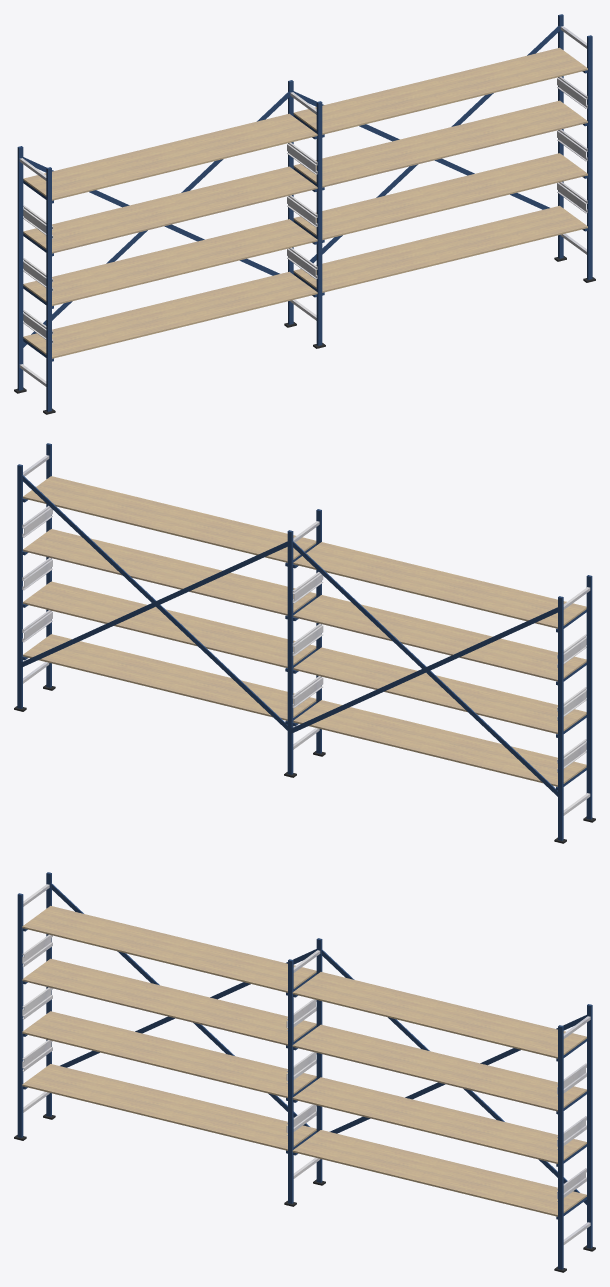
The model's file is BigShelves02.FBX.
3 renders of one model, top to bottom at view 1: azimuth 30°, elevation 25°; view 2: azimuth 150°, elevation 25°; view 3: azimuth 330°, elevation 25°, orthographic.
Visible parts, largest first — view 1: BigShelves02; view 2: BigShelves02; view 3: BigShelves02.
Boxes of the visible parts, bbox=[...] form: BigShelves02: bbox=[14, 14, 595, 414]; BigShelves02: bbox=[14, 443, 595, 843]; BigShelves02: bbox=[14, 872, 595, 1272].
Bounding box in the file's own units: 699 × 297 × 71.33.
